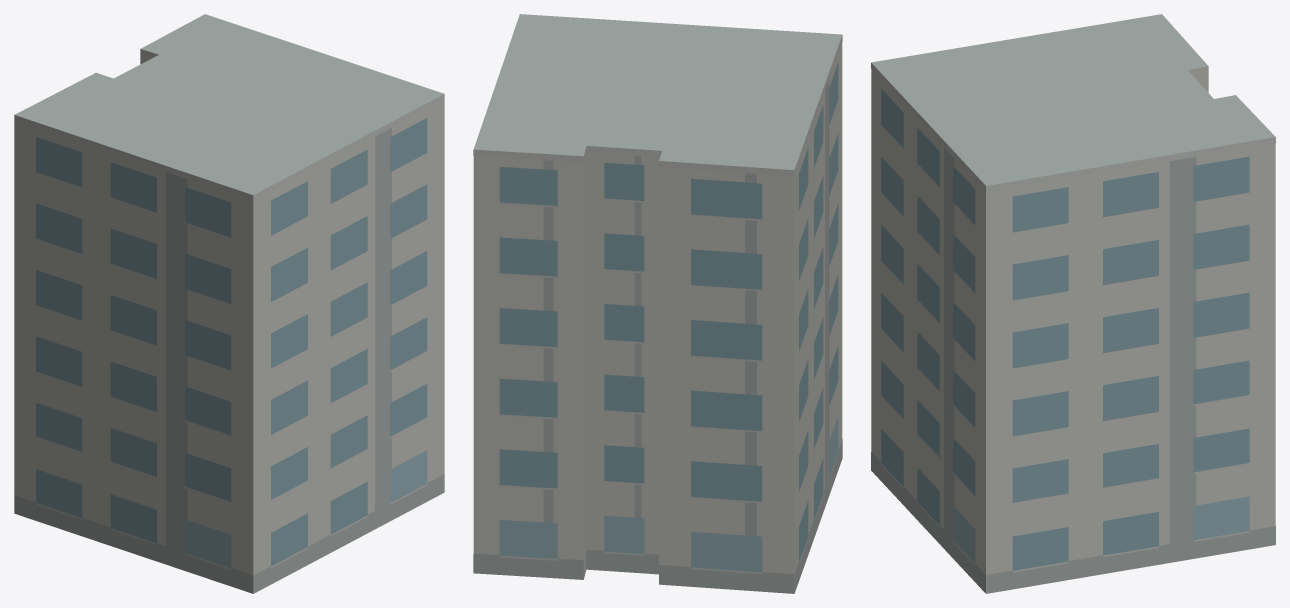
File: survey-upis-32889395.glb
3 renders of one model, left to right at view 1: azimuth 30°, elevation 25°; view 2: azimuth 150°, elevation 25°; view 3: azimuth 270°, elevation 25°, orthographic. The views are drawn at different scales.
Parts seen in each view (by area): view 1: survey-upis-32889395.tmp; view 2: survey-upis-32889395.tmp; view 3: survey-upis-32889395.tmp.
Part boxes in pixels (left/top/right/bottom): survey-upis-32889395.tmp: left=14, top=14, right=444, bottom=593; survey-upis-32889395.tmp: left=473, top=14, right=842, bottom=593; survey-upis-32889395.tmp: left=871, top=14, right=1275, bottom=593.
Bounding box in the file's own units: 14.38 × 15.9 × 14.31.
